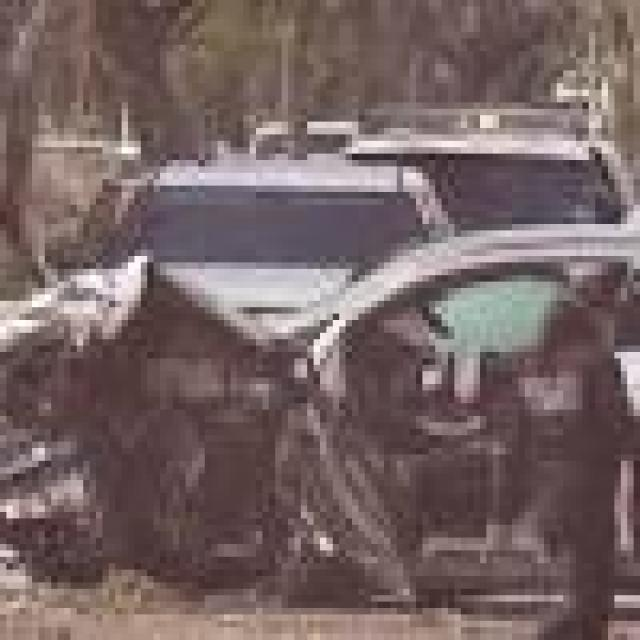accident: (44, 159, 591, 610)
